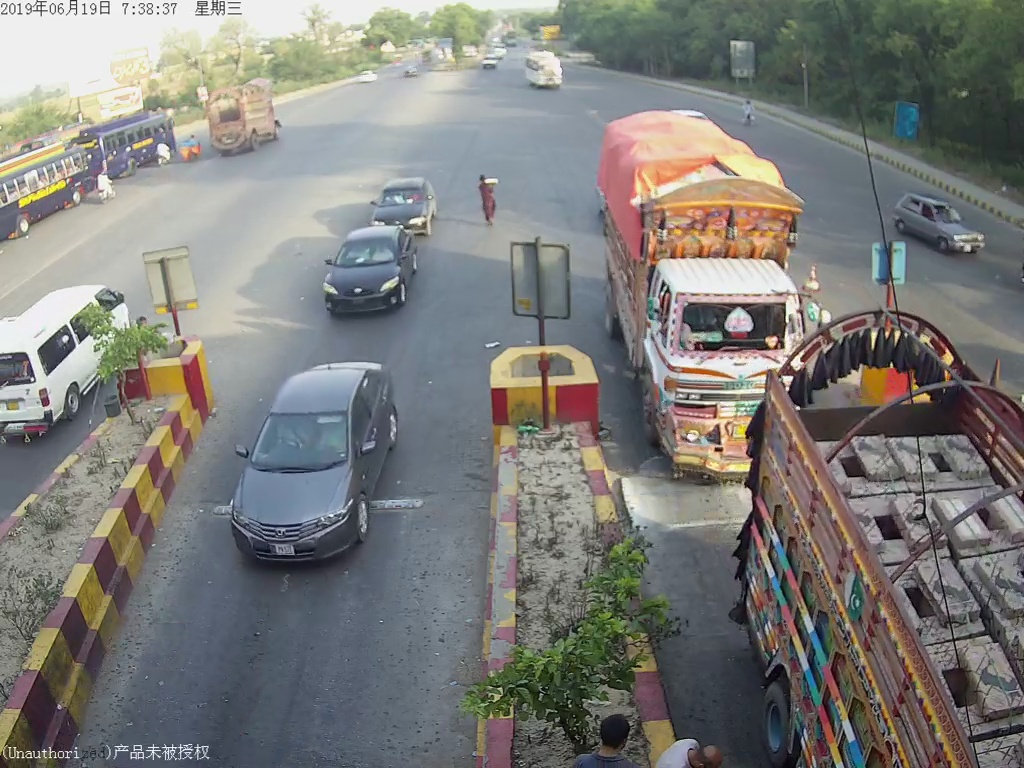Cat-1: (233, 354, 408, 561), (315, 222, 415, 316), (369, 168, 433, 233)
Cat-4: (605, 109, 802, 472)
